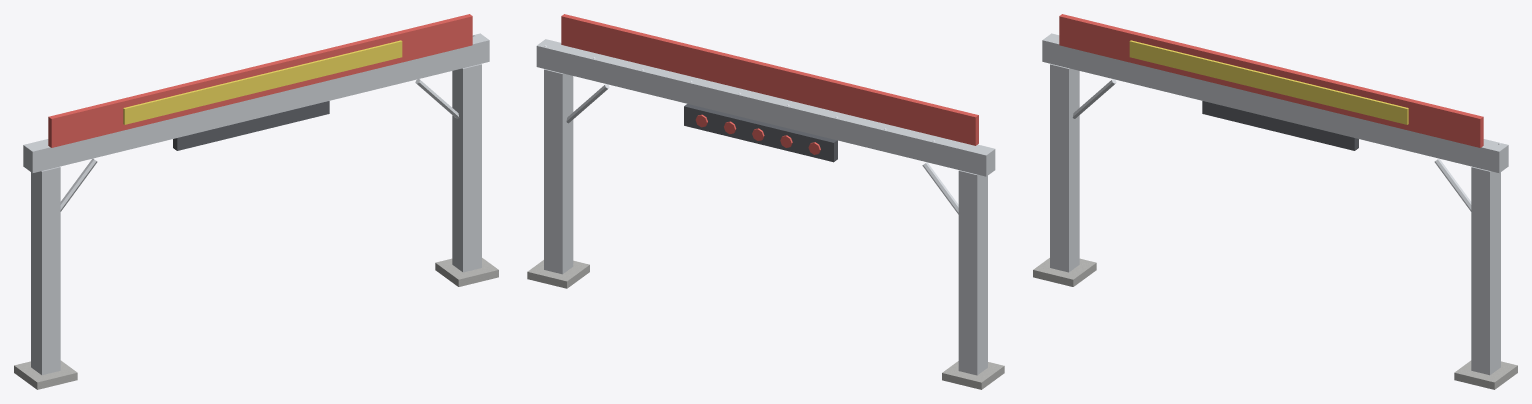
File: go-kart-track-and-pit-lane-start-finish-gantry-cd27d755.glb
The picture shows the model from 3 angles, left to right: view 1: azimuth 30°, elevation 25°; view 2: azimuth 150°, elevation 25°; view 3: azimuth 330°, elevation 25°; orthographic projection.
Visible parts, largest first — view 1: start-finish-gantry-steel, start-finish-gantry-red, start-finish-gantry-canary, light-panel/charcoal, start-finish-gantry-concrete; view 2: start-finish-gantry-steel, start-finish-gantry-red, light-panel/charcoal, start-finish-gantry-concrete, light-panel/red; view 3: start-finish-gantry-steel, start-finish-gantry-red, start-finish-gantry-canary, light-panel/charcoal, start-finish-gantry-concrete.
Boxes of the visible parts, x1,y1,x2,y2 form: start-finish-gantry-steel: [23, 33, 489, 375]; start-finish-gantry-red: [48, 14, 472, 147]; start-finish-gantry-canary: [123, 40, 402, 124]; light-panel/charcoal: [173, 101, 329, 150]; start-finish-gantry-concrete: [14, 258, 498, 389]; start-finish-gantry-steel: [536, 39, 995, 375]; start-finish-gantry-red: [561, 14, 978, 145]; light-panel/charcoal: [684, 104, 837, 162]; start-finish-gantry-concrete: [527, 260, 1004, 389]; light-panel/red: [695, 114, 820, 154]; start-finish-gantry-steel: [1042, 33, 1508, 375]; start-finish-gantry-red: [1059, 14, 1483, 147]; start-finish-gantry-canary: [1129, 40, 1408, 124]; light-panel/charcoal: [1202, 101, 1358, 150]; start-finish-gantry-concrete: [1033, 258, 1517, 389].
Bounding box in the file's own units: 10.3 × 5.58 × 0.9003.
Materials: 5 (1 with a texture image).
